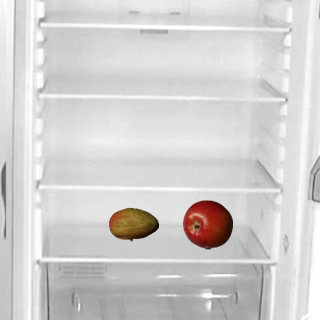Apple Braeburn: (182, 199, 232, 249)
Papaya: (108, 199, 158, 249)
